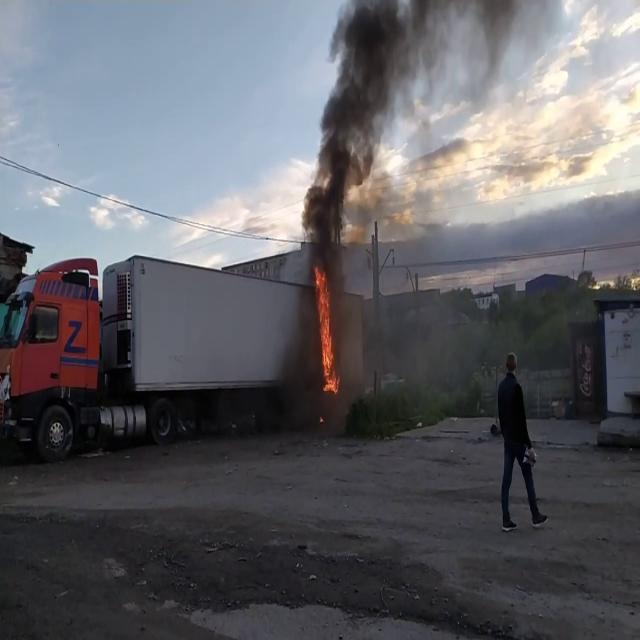Fire: (313, 260, 339, 394)
Smoke: (303, 0, 416, 256)
